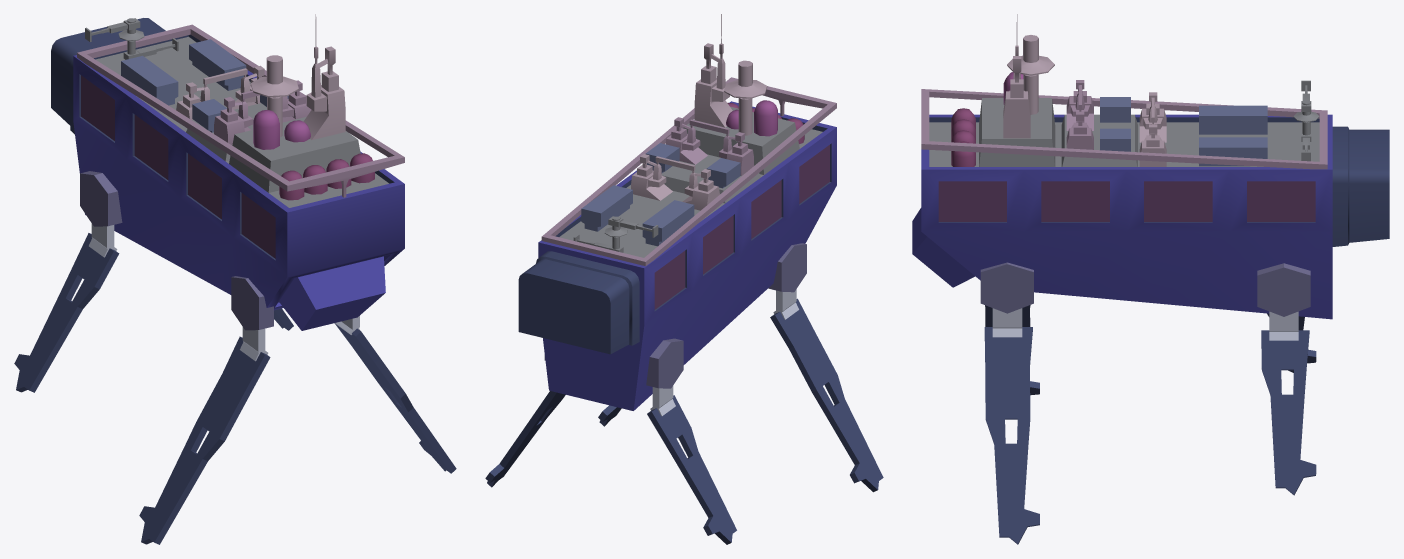
Rendered from ship.fbx.
3 views of the same model, side by side, from view 1: azimuth 30°, elevation 25°; view 2: azimuth 150°, elevation 25°; view 3: azimuth 270°, elevation 25° (orthographic). The views are drawn at different scales.
Visible parts, largest first — view 1: Cube, Plane, Cube.001; view 2: Cube, Plane, Cube.001; view 3: Cube, Plane, Cube.001.
Part boxes in pixels (x1,y1,x2,y2): Cube: [51, 14, 404, 330]; Plane: [14, 171, 456, 544]; Cube.001: [121, 39, 288, 132]; Cube: [518, 14, 836, 410]; Plane: [485, 243, 883, 544]; Cube.001: [581, 143, 740, 246]; Cube: [912, 14, 1389, 319]; Plane: [980, 262, 1316, 544]; Cube.001: [1100, 97, 1267, 166].
Bounding box in the file's own units: 4407 × 6660 × 6132.
